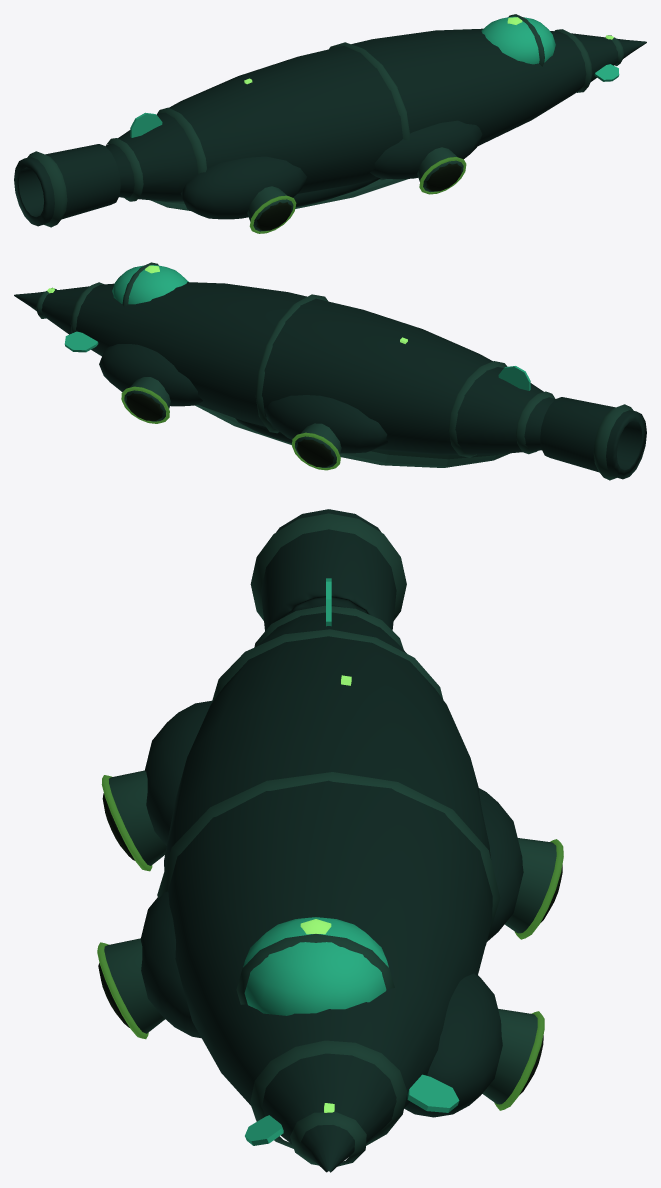
File: verger-pelagia.glb
3 renders of one model, top to bottom at view 1: azimuth 30°, elevation 25°; view 2: azimuth 150°, elevation 25°; view 3: azimuth 270°, elevation 25°, orthographic. The views are drawn at different scales.
Parts seen in each view (by area): view 1: pod_body, siphon_duct, cargo_lobe_s0, cargo_lobe_s2, listening_dome, siphon_ring, growth_ring_2, ballast_bladder_s, keel, growth_ring_1, hatch_s0_ring, hatch_s2_ring (+7 smaller); view 2: pod_body, siphon_duct, cargo_lobe_p1, cargo_lobe_p3, keel, listening_dome, growth_ring_2, siphon_ring, growth_ring_1, hatch_p1_door, hatch_p3_door, hatch_p3_ring (+8 smaller); view 3: pod_body, listening_dome, siphon_duct, cargo_lobe_p3, growth_ring_2, cargo_lobe_s2, cargo_lobe_s0, siphon_ring, cargo_lobe_p1, growth_ring_3, hatch_p3_ring, hatch_s0_ring (+7 smaller).
Boxes of the visible parts, x1,y1,x2,y2 form: pod_body: (106, 28, 646, 201); siphon_duct: (14, 144, 120, 226); cargo_lobe_s0: (180, 156, 306, 219); cargo_lobe_s2: (370, 120, 482, 179); listening_dome: (481, 16, 555, 64); siphon_ring: (27, 151, 67, 227); growth_ring_2: (329, 42, 409, 180); ballast_bladder_s: (293, 178, 380, 207); keel: (151, 179, 407, 210); growth_ring_1: (157, 107, 206, 201); hatch_s0_ring: (247, 186, 293, 231); hatch_s2_ring: (417, 147, 463, 192); pod_body: (14, 282, 554, 454); siphon_duct: (540, 397, 646, 479); cargo_lobe_p1: (264, 395, 388, 453); cargo_lobe_p3: (99, 344, 202, 406); keel: (195, 404, 509, 467); listening_dome: (112, 265, 188, 304); growth_ring_2: (255, 294, 328, 433); siphon_ring: (593, 404, 633, 480); growth_ring_1: (448, 361, 507, 457); hatch_p1_door: (296, 439, 333, 467); hatch_p3_door: (126, 393, 163, 420); hatch_p3_ring: (124, 377, 170, 421); pod_body: (164, 605, 492, 1172); listening_dome: (243, 917, 388, 1015); siphon_duct: (261, 509, 396, 630); cargo_lobe_p3: (404, 973, 502, 1117); growth_ring_2: (157, 772, 500, 945); cargo_lobe_s2: (140, 891, 201, 1038); cargo_lobe_s0: (144, 700, 212, 845); siphon_ring: (250, 513, 406, 620); cargo_lobe_p1: (479, 788, 523, 941); growth_ring_3: (250, 1040, 407, 1148); hatch_p3_ring: (482, 1008, 537, 1104); hatch_s0_ring: (109, 770, 166, 865).
Size of the model in its own units: 100 by 22.38 by 32.85.
